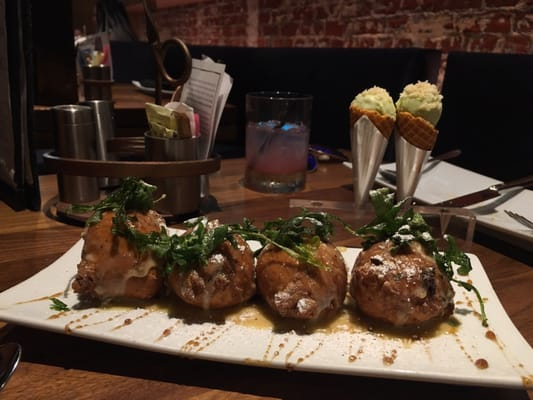pizza: (242, 90, 314, 194)
